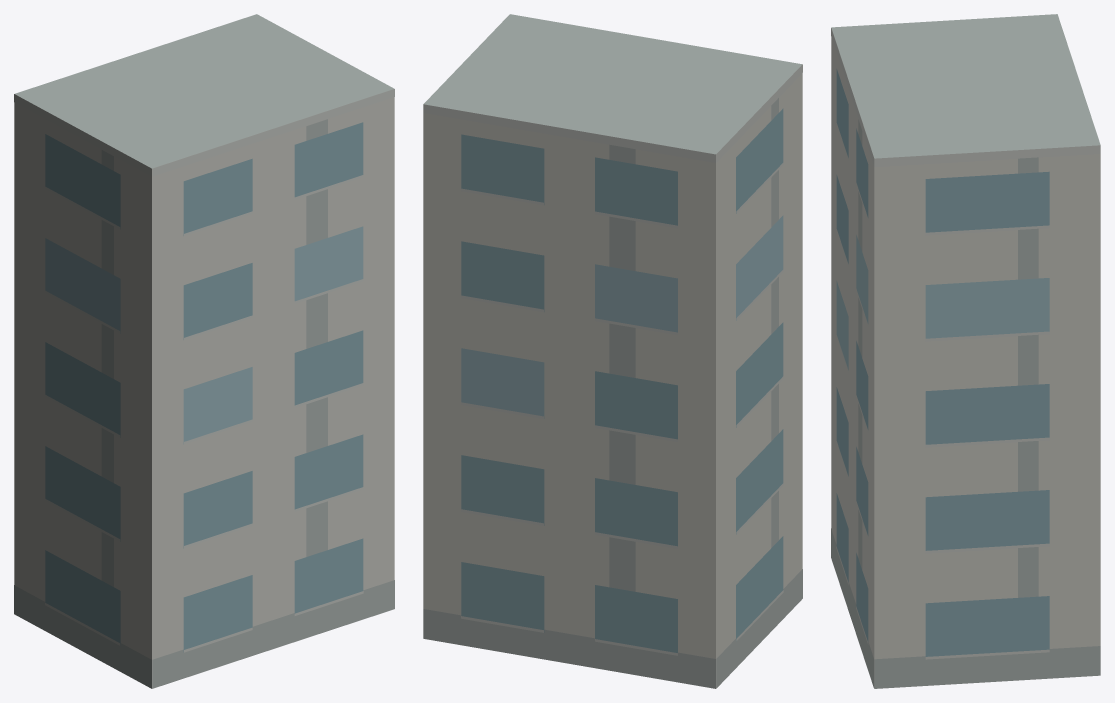
The model's file is residential-7630a20e-0a34-4fe4-9e80-81f867ce19a6.glb.
The picture shows the model from 3 angles, left to right: view 1: azimuth 30°, elevation 25°; view 2: azimuth 150°, elevation 25°; view 3: azimuth 270°, elevation 25°; orthographic projection. The views are drawn at different scales.
Visible parts, largest first — view 1: residential-7630a20e-0a34-4fe4-9e80-81f867ce19a6.tmp; view 2: residential-7630a20e-0a34-4fe4-9e80-81f867ce19a6.tmp; view 3: residential-7630a20e-0a34-4fe4-9e80-81f867ce19a6.tmp.
Part boxes in pixels (x1=…): residential-7630a20e-0a34-4fe4-9e80-81f867ce19a6.tmp: x1=14, y1=14, x2=394, y2=688; residential-7630a20e-0a34-4fe4-9e80-81f867ce19a6.tmp: x1=423, y1=14, x2=802, y2=688; residential-7630a20e-0a34-4fe4-9e80-81f867ce19a6.tmp: x1=831, y1=14, x2=1100, y2=688.
Bounding box in the file's own units: 8.93 × 15.25 × 7.04.
